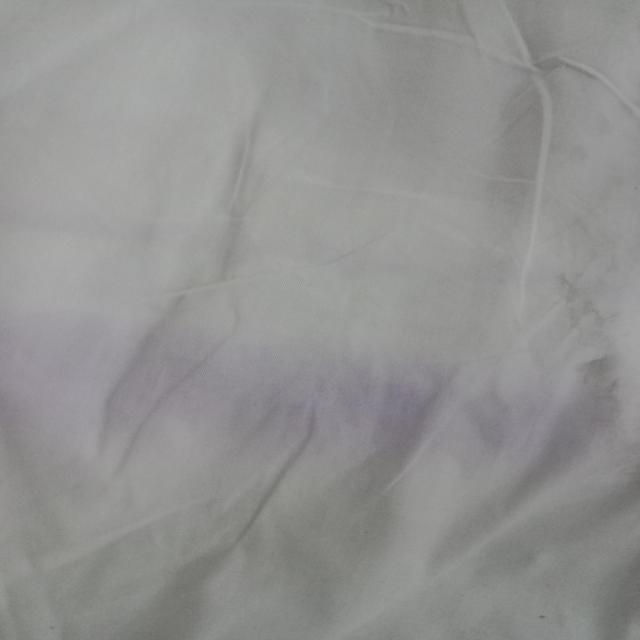stain: (13, 325, 587, 467), (301, 85, 579, 186), (260, 216, 604, 297)
